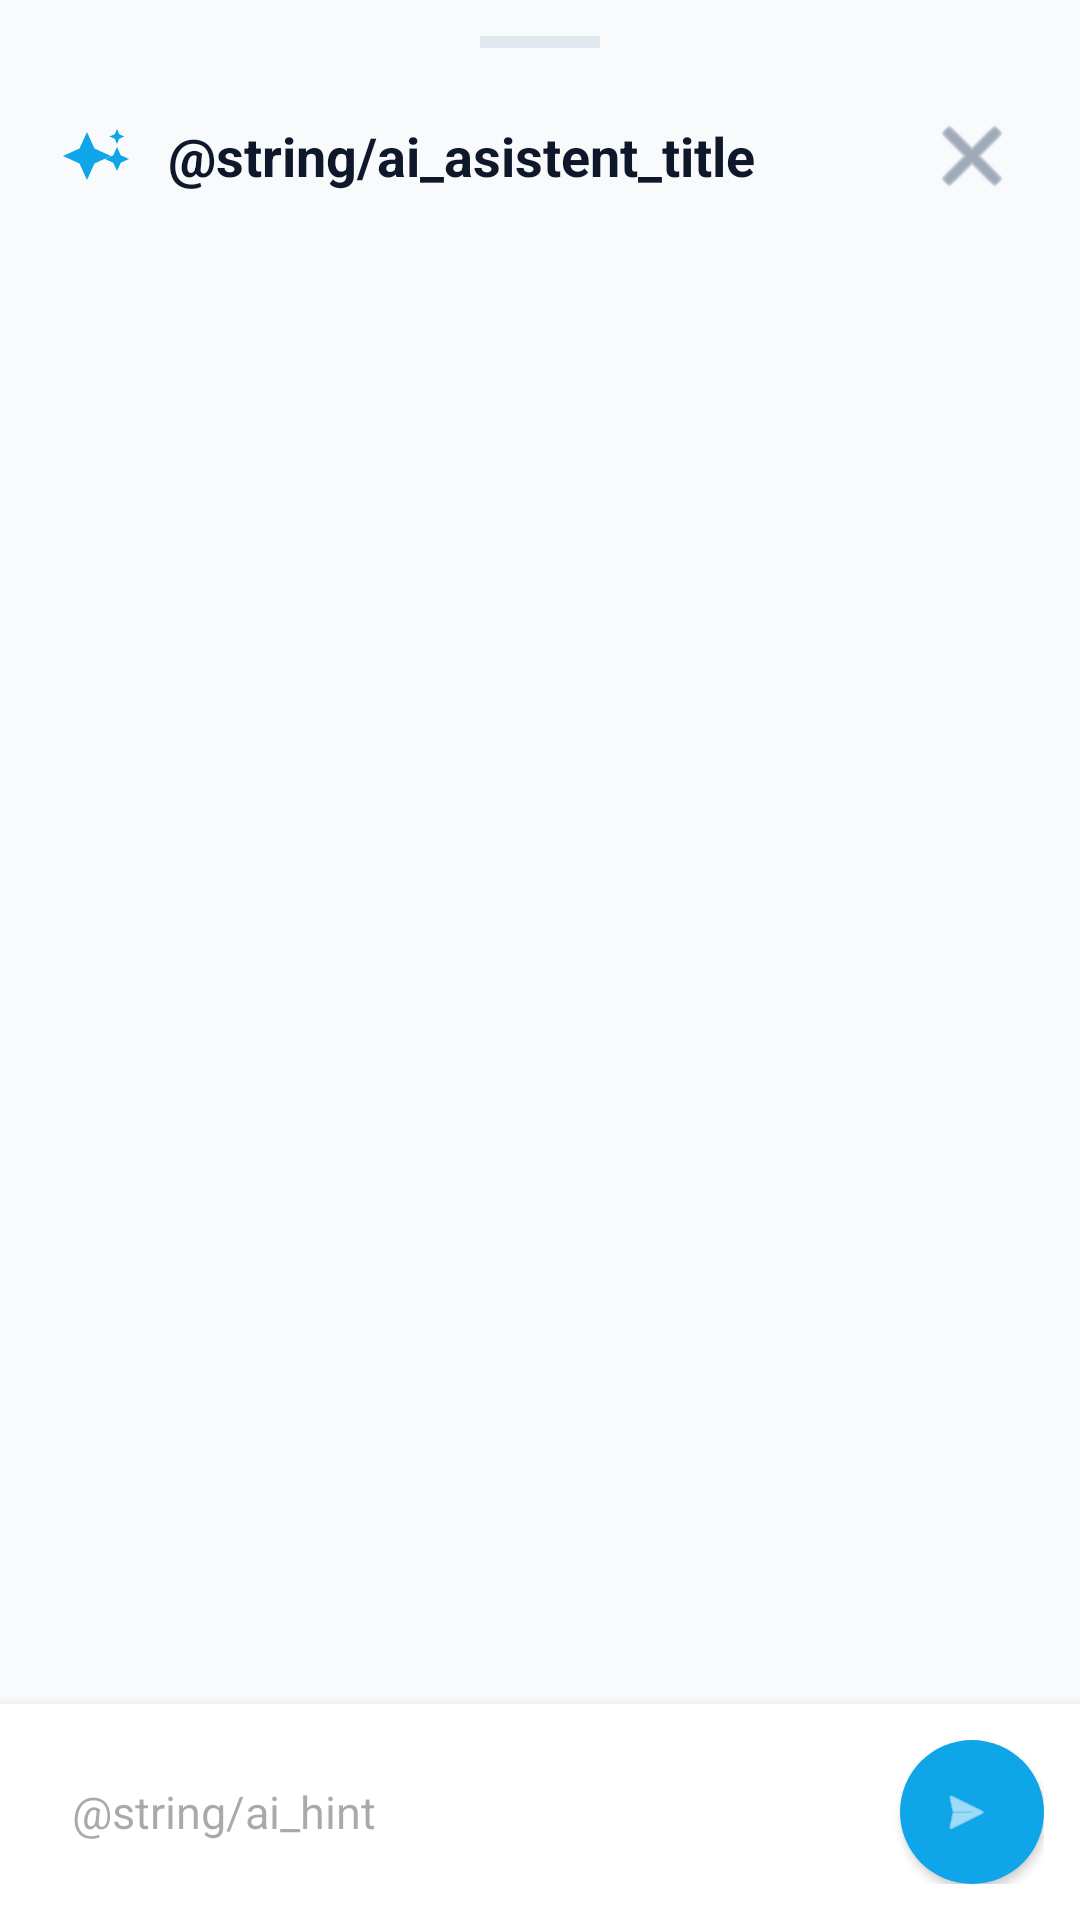

Icons on this 1080×1920 Android screen, each with the point to tap as (x,y):
ai stars: (96,154)
send: (972,1812)
